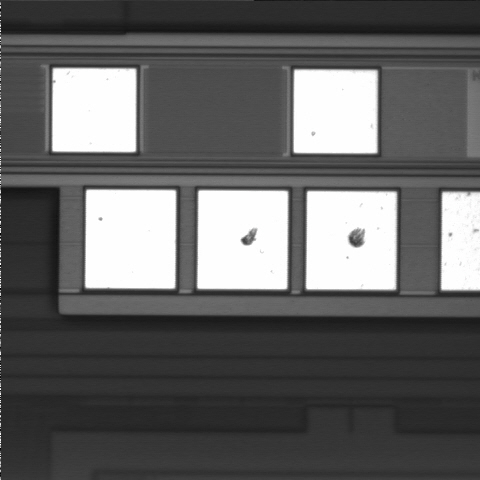pad: (85, 190, 176, 289), (197, 190, 288, 289), (306, 191, 397, 290), (52, 68, 136, 152), (294, 70, 377, 153)
